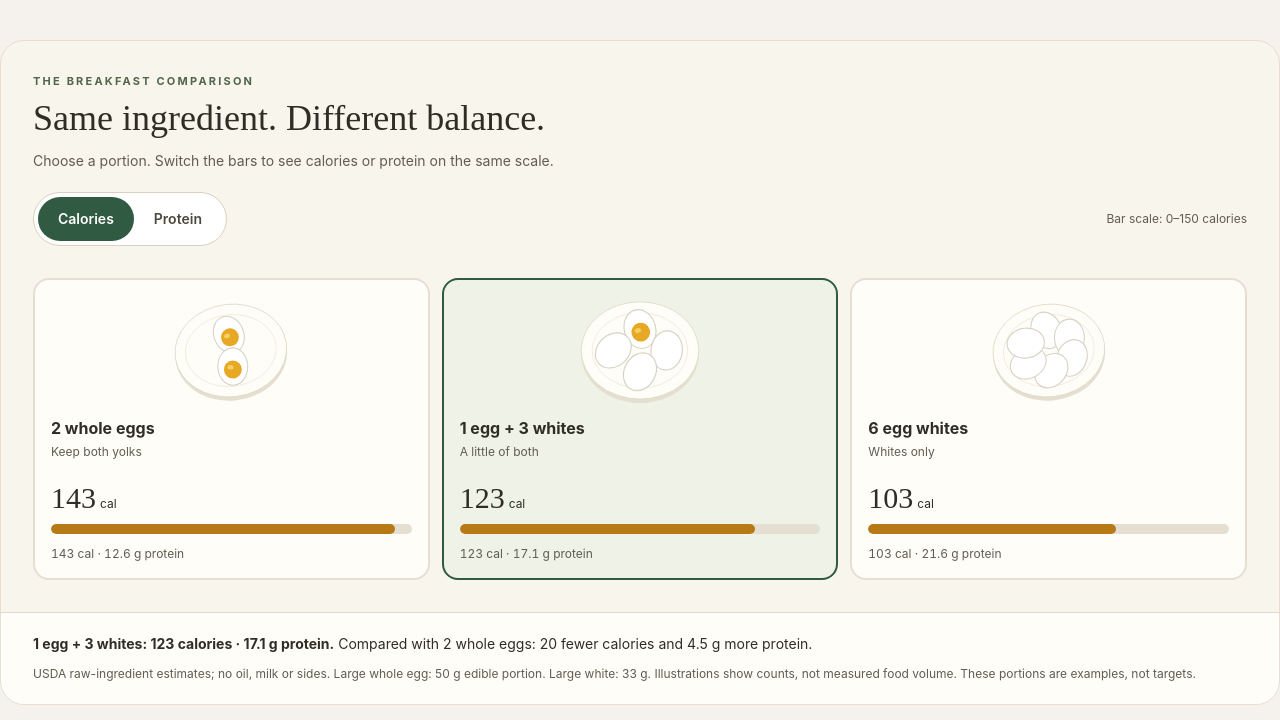
Scenario: egg nutrition graphics › compares the mixed portion with two eggs using unrounded nutrient inputs
The width and height of the screenshot is (1280, 720).
Expected: the message shows "123 calories · 17.1 g protein", [33,635,812,652]
Expected: the message shows "20 fewer calories and 4.5 g more protein", [334,635,812,652]
Click the button with aria-label "Select 6 egg whites": (1049, 352) [850,278,1247,580]
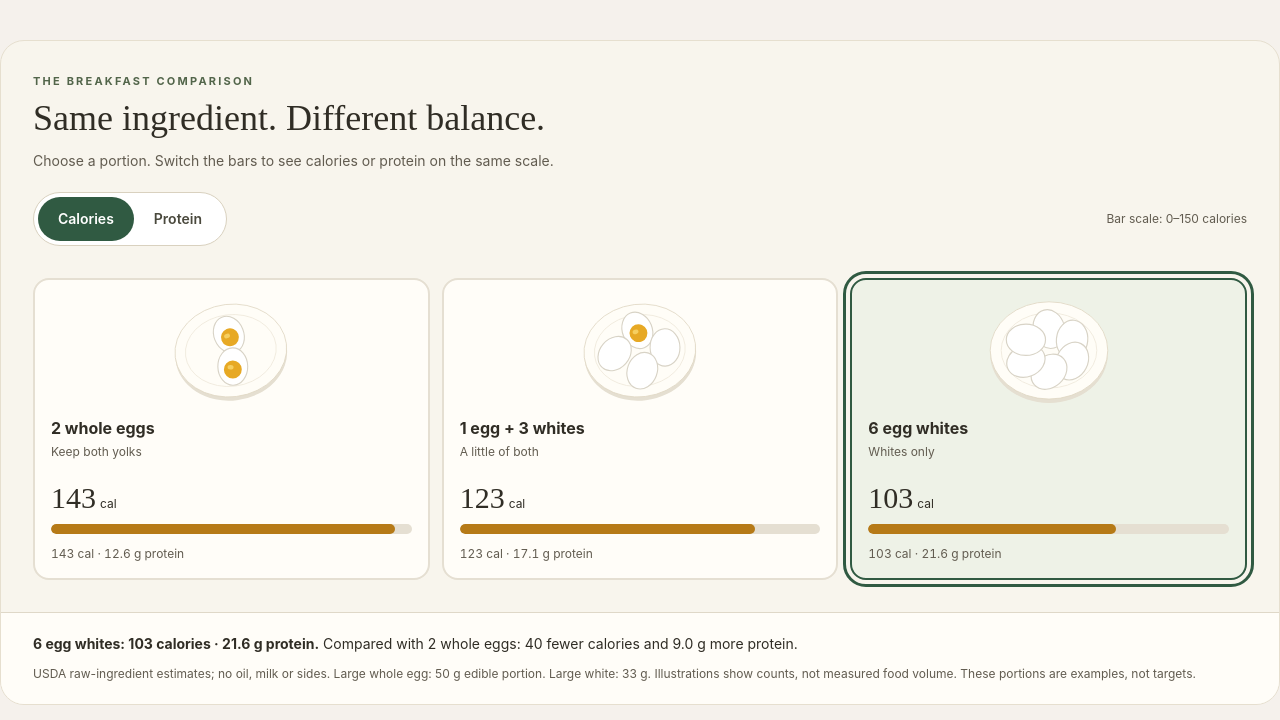
Expected: the message shows "103 calories · 21.6 g protein", [33,635,798,652]
Expected: the message shows "40 fewer calories and 9.0 g more protein", [319,635,798,652]
Click the button with aria-label "Select 2 whole eggs": (231, 352) [33,278,430,580]
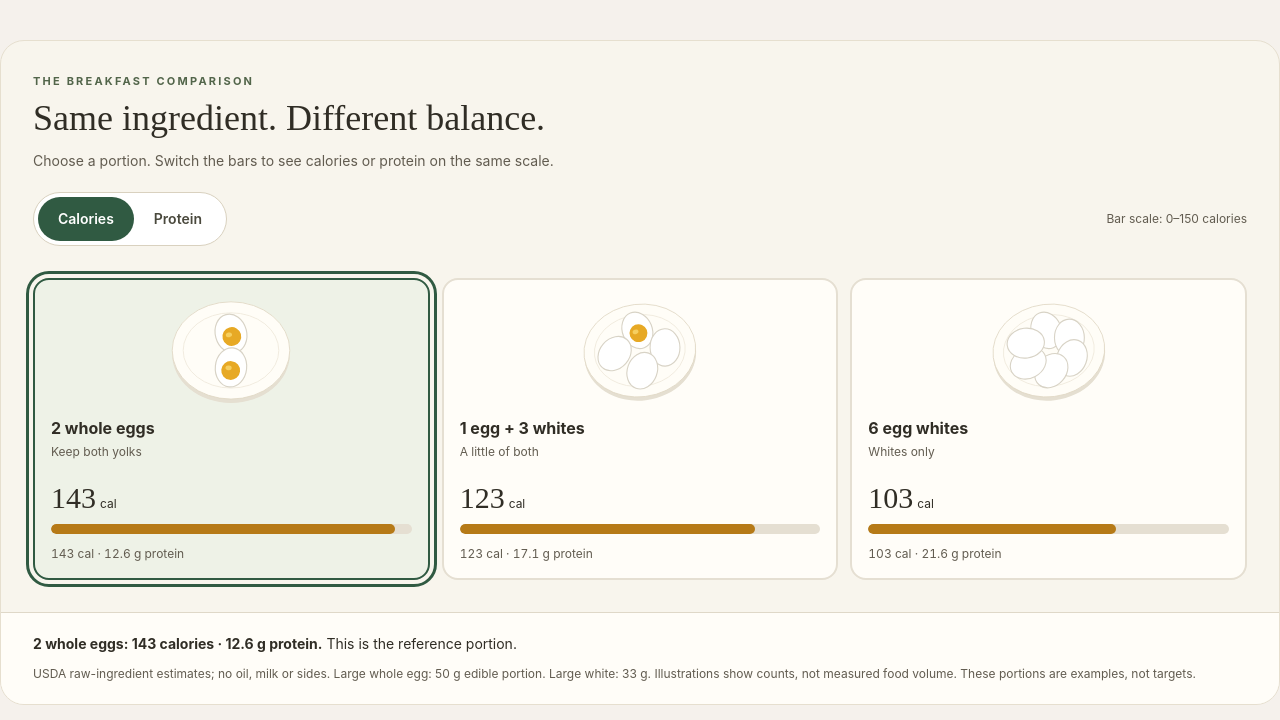
Expected: the message shows "143 calories · 12.6 g protein", [33,635,517,652]
Expected: the message no longer shows "fewer calories", [33,635,517,652]
